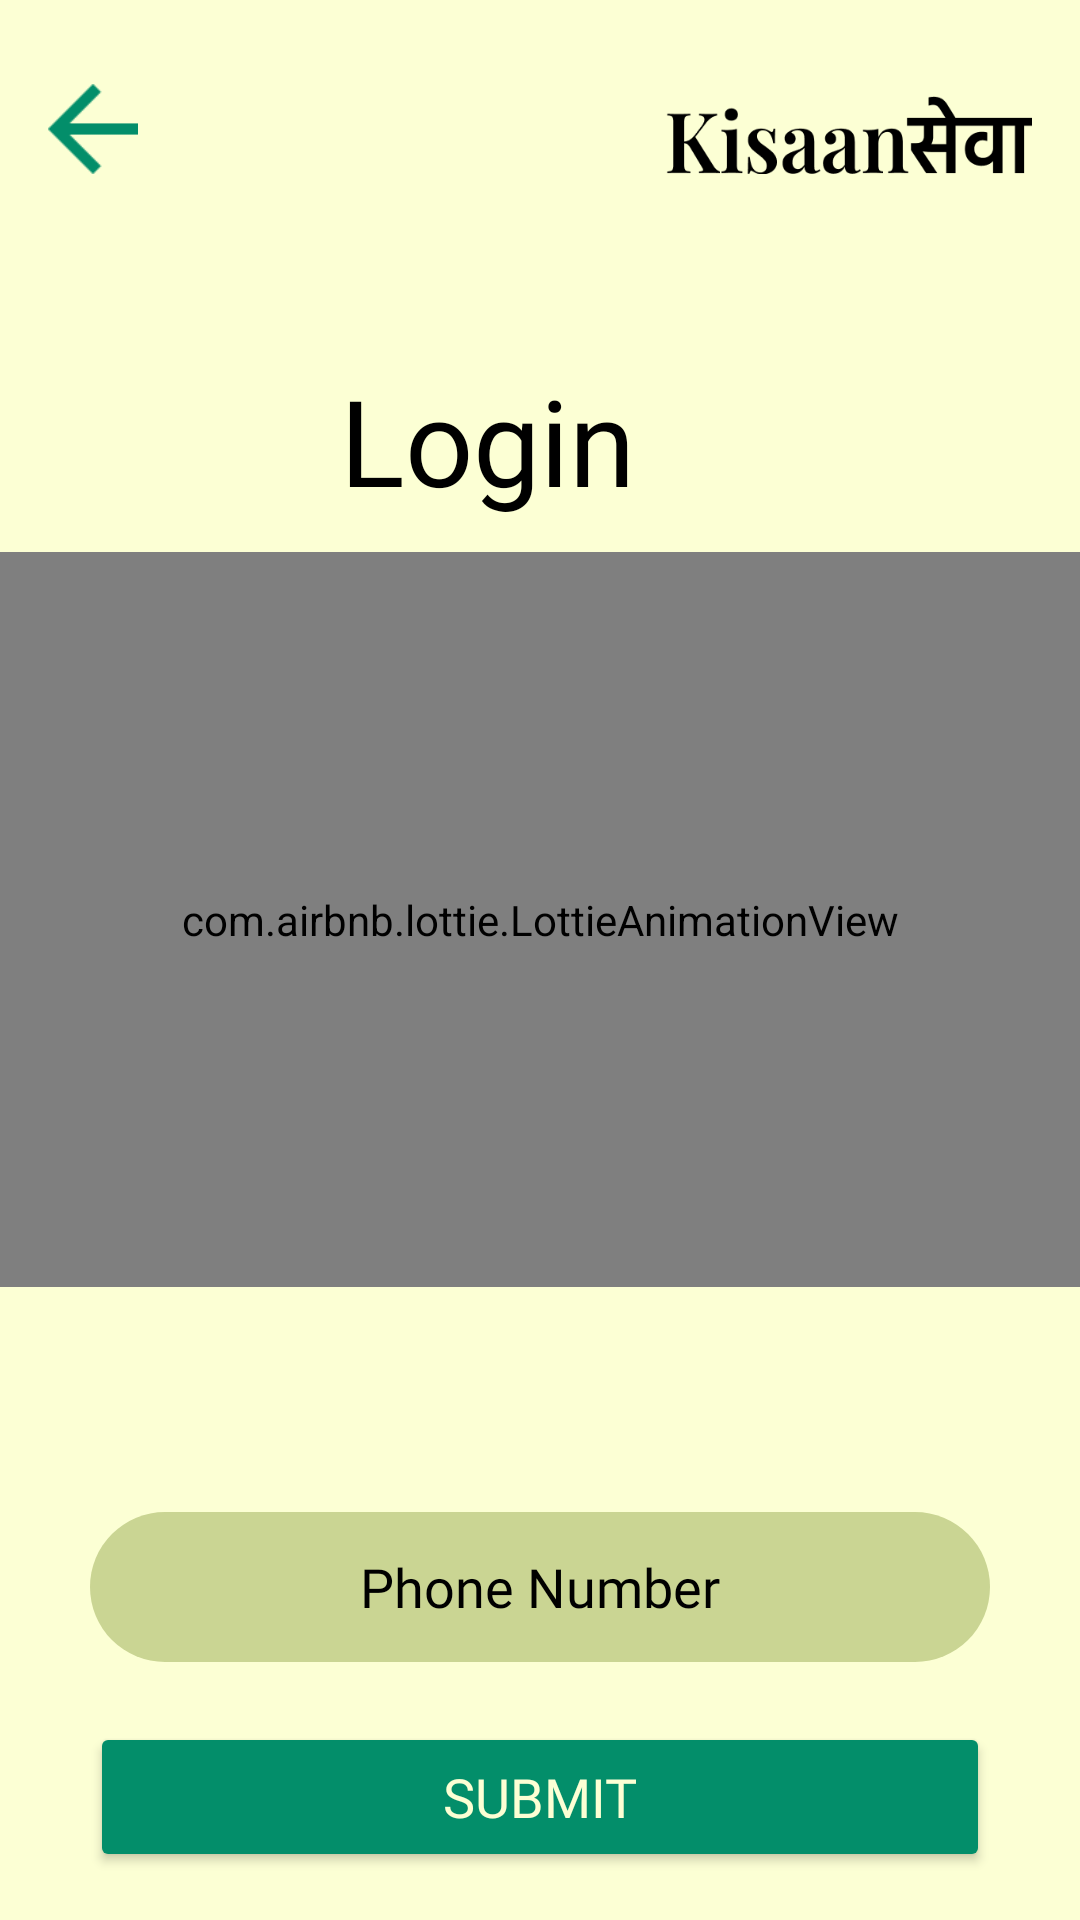

Screen size 1080 × 1920. Icon name, then its center in pixels as (x=x, y=y):
back: (x=93, y=129)
